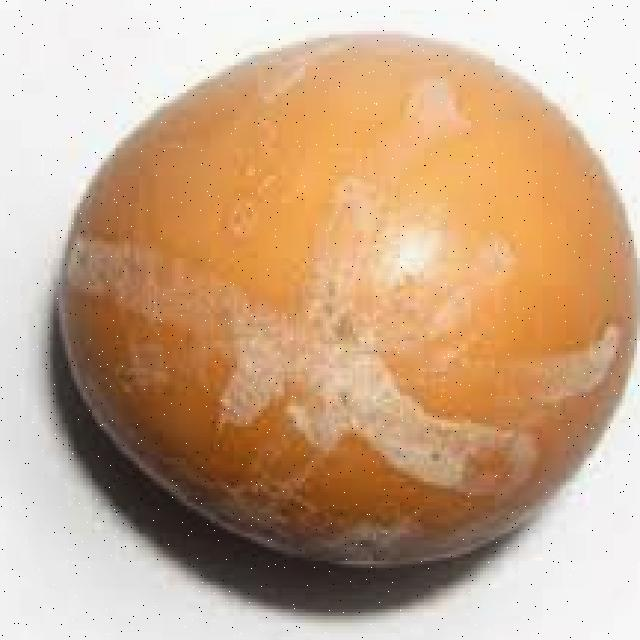Calcium Deposit Egg: (30, 22, 632, 600)
